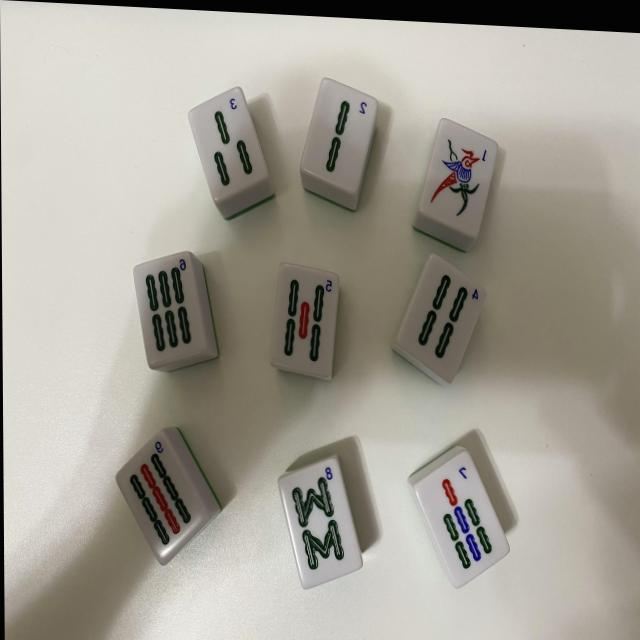s1: (418, 117, 500, 240)
s2: (296, 72, 383, 214)
s3: (184, 83, 278, 226)
s4: (391, 250, 489, 393)
s5: (270, 262, 340, 379)
s6: (130, 246, 222, 377)
s7: (407, 439, 511, 592)
s8: (277, 457, 363, 588)
s9: (113, 430, 210, 567)
